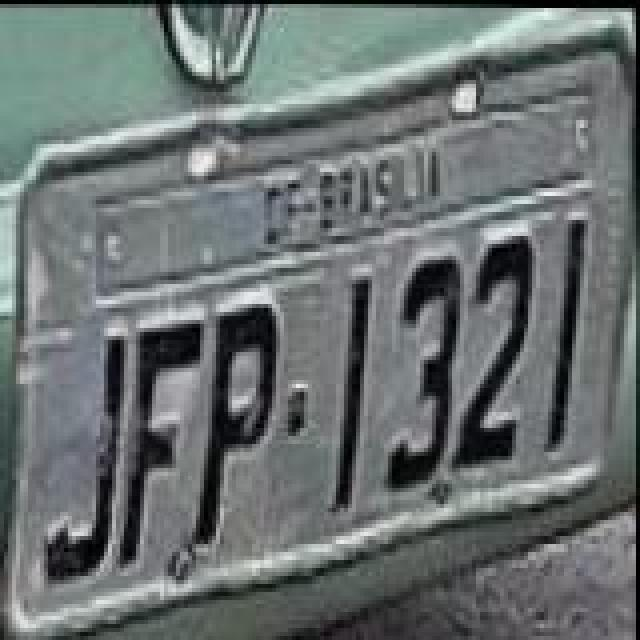1: (324, 272, 380, 520), (540, 210, 592, 450)
2: (450, 230, 538, 470)
3: (378, 250, 466, 490)
F: (112, 318, 208, 570)
J: (42, 336, 134, 588)
P: (188, 300, 284, 548)
